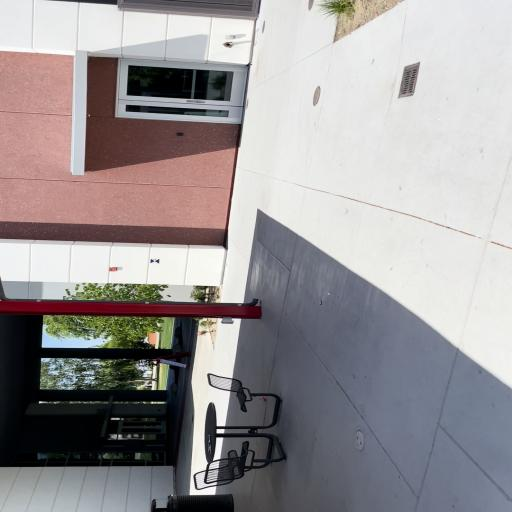target2: (150, 258, 160, 264)
